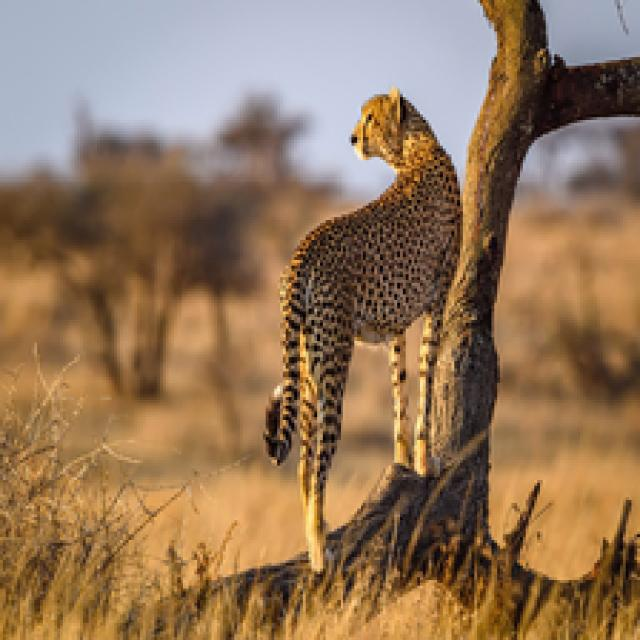cheetah: (244, 89, 471, 582)
